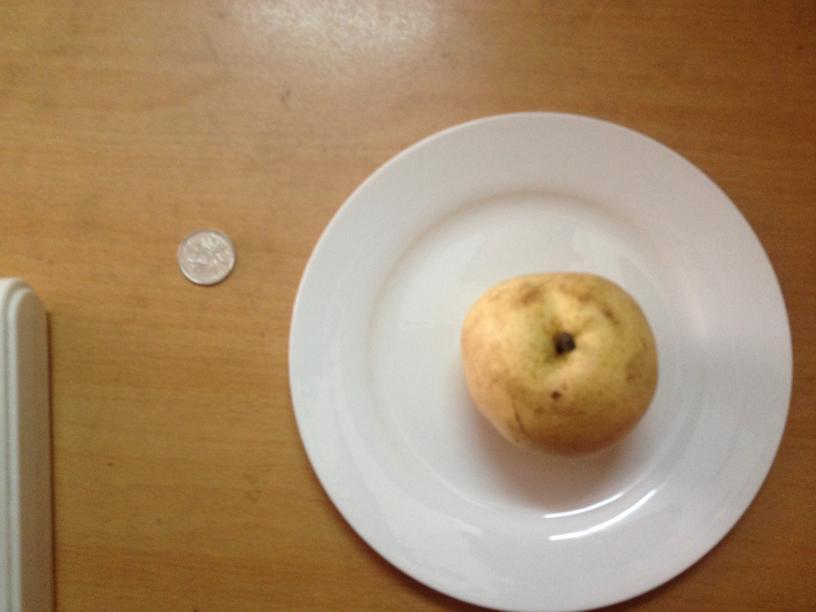coin: (174, 228, 235, 287)
pear: (463, 271, 657, 460)
